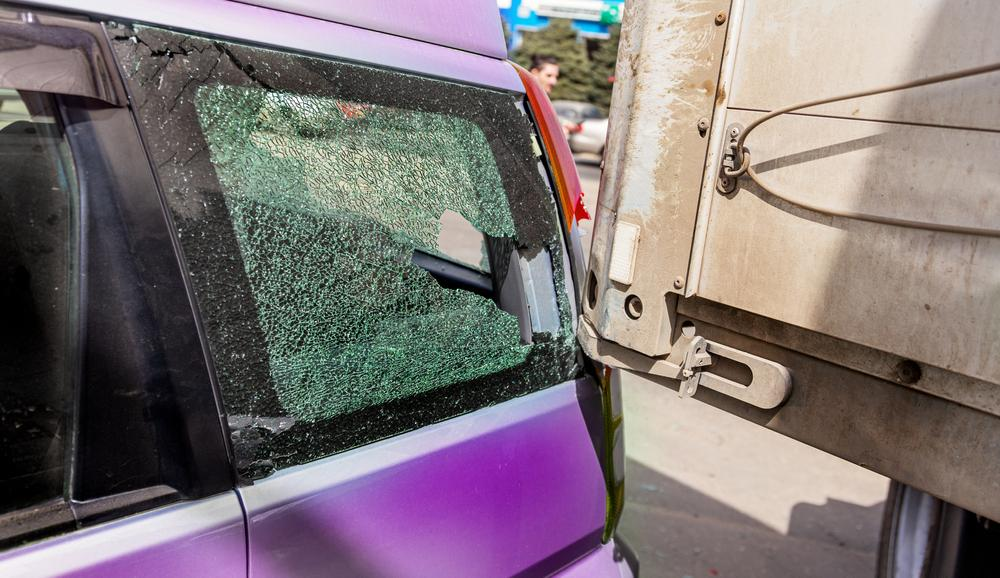glass shatter: (105, 19, 583, 481)
